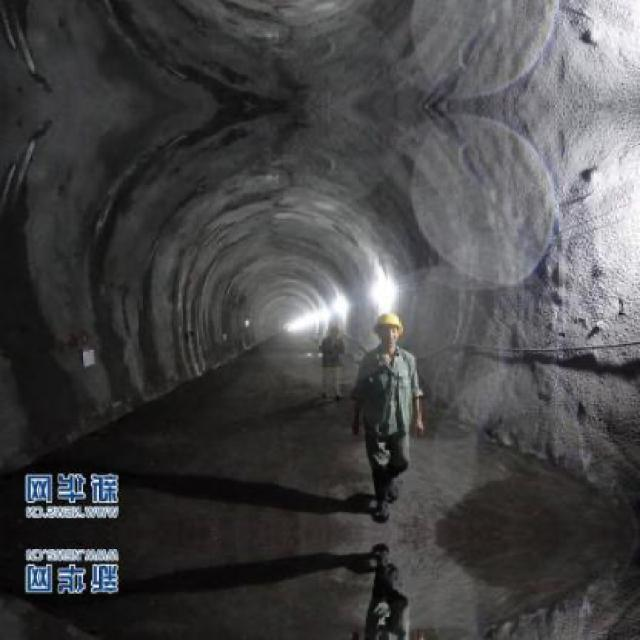con casco: (292, 311, 353, 381), (352, 300, 401, 370)
